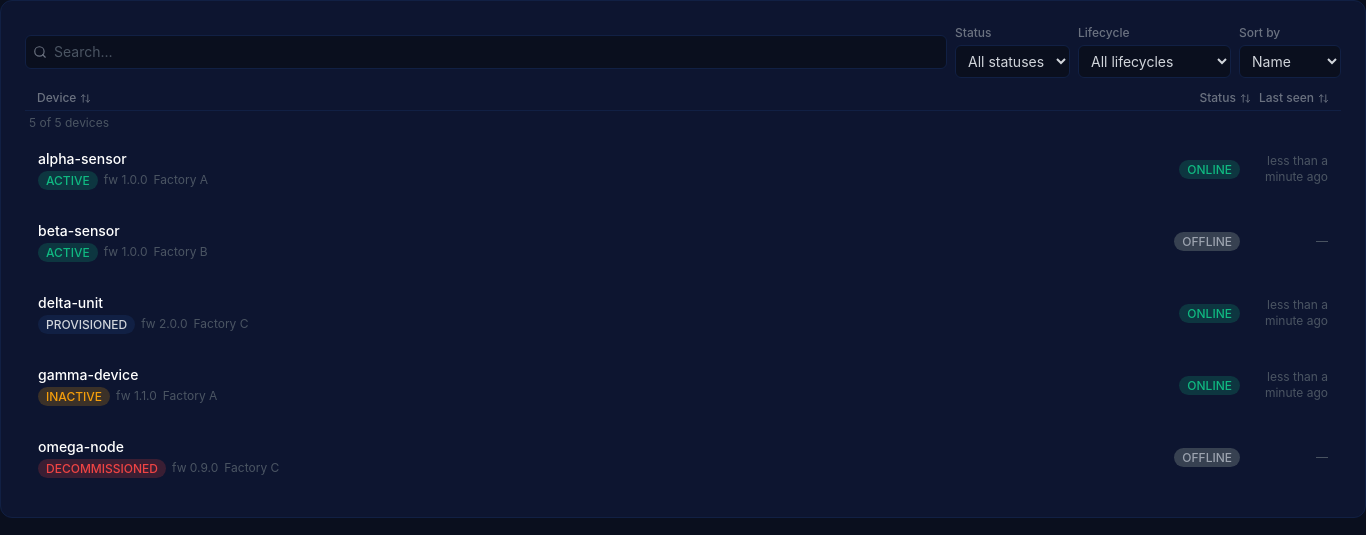
Test: lifecycle filter shows only ACTIVE devices
The width and height of the screenshot is (1366, 535).
Step 1. Select "Active" in the dropdown labelled "Lifecycle" → (1154, 62), box x1=1078 y1=45 x2=1231 y2=78
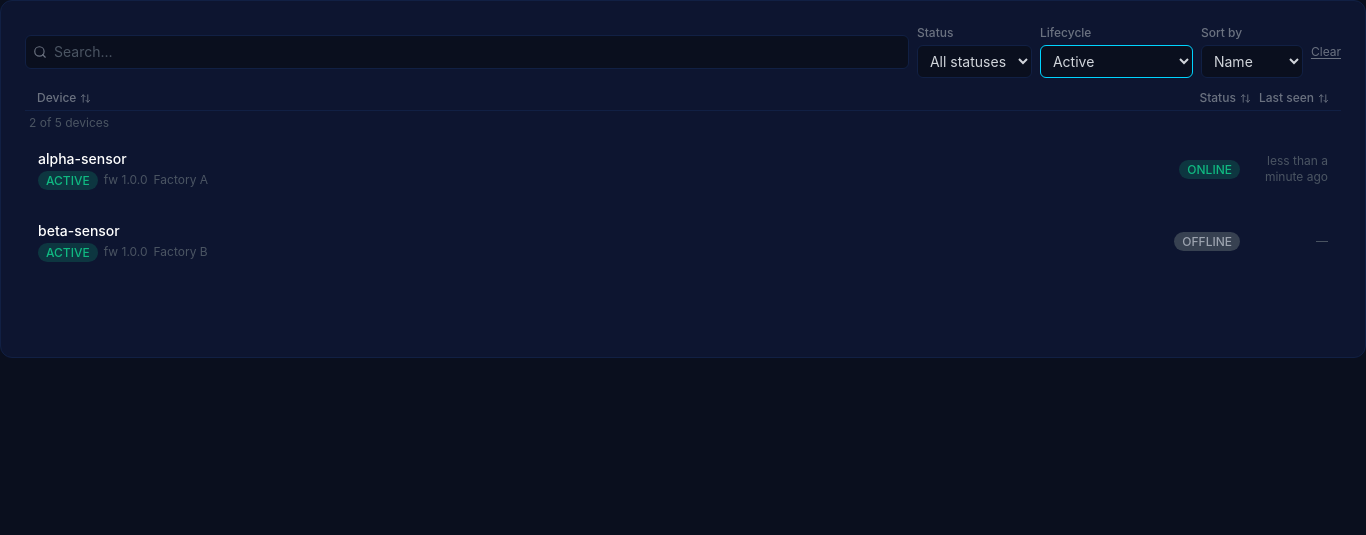
Expected: the text "alpha-sensor" is shown, x1=38 y1=150 x2=127 y2=166
Expected: the text "gamma-device" is gone
